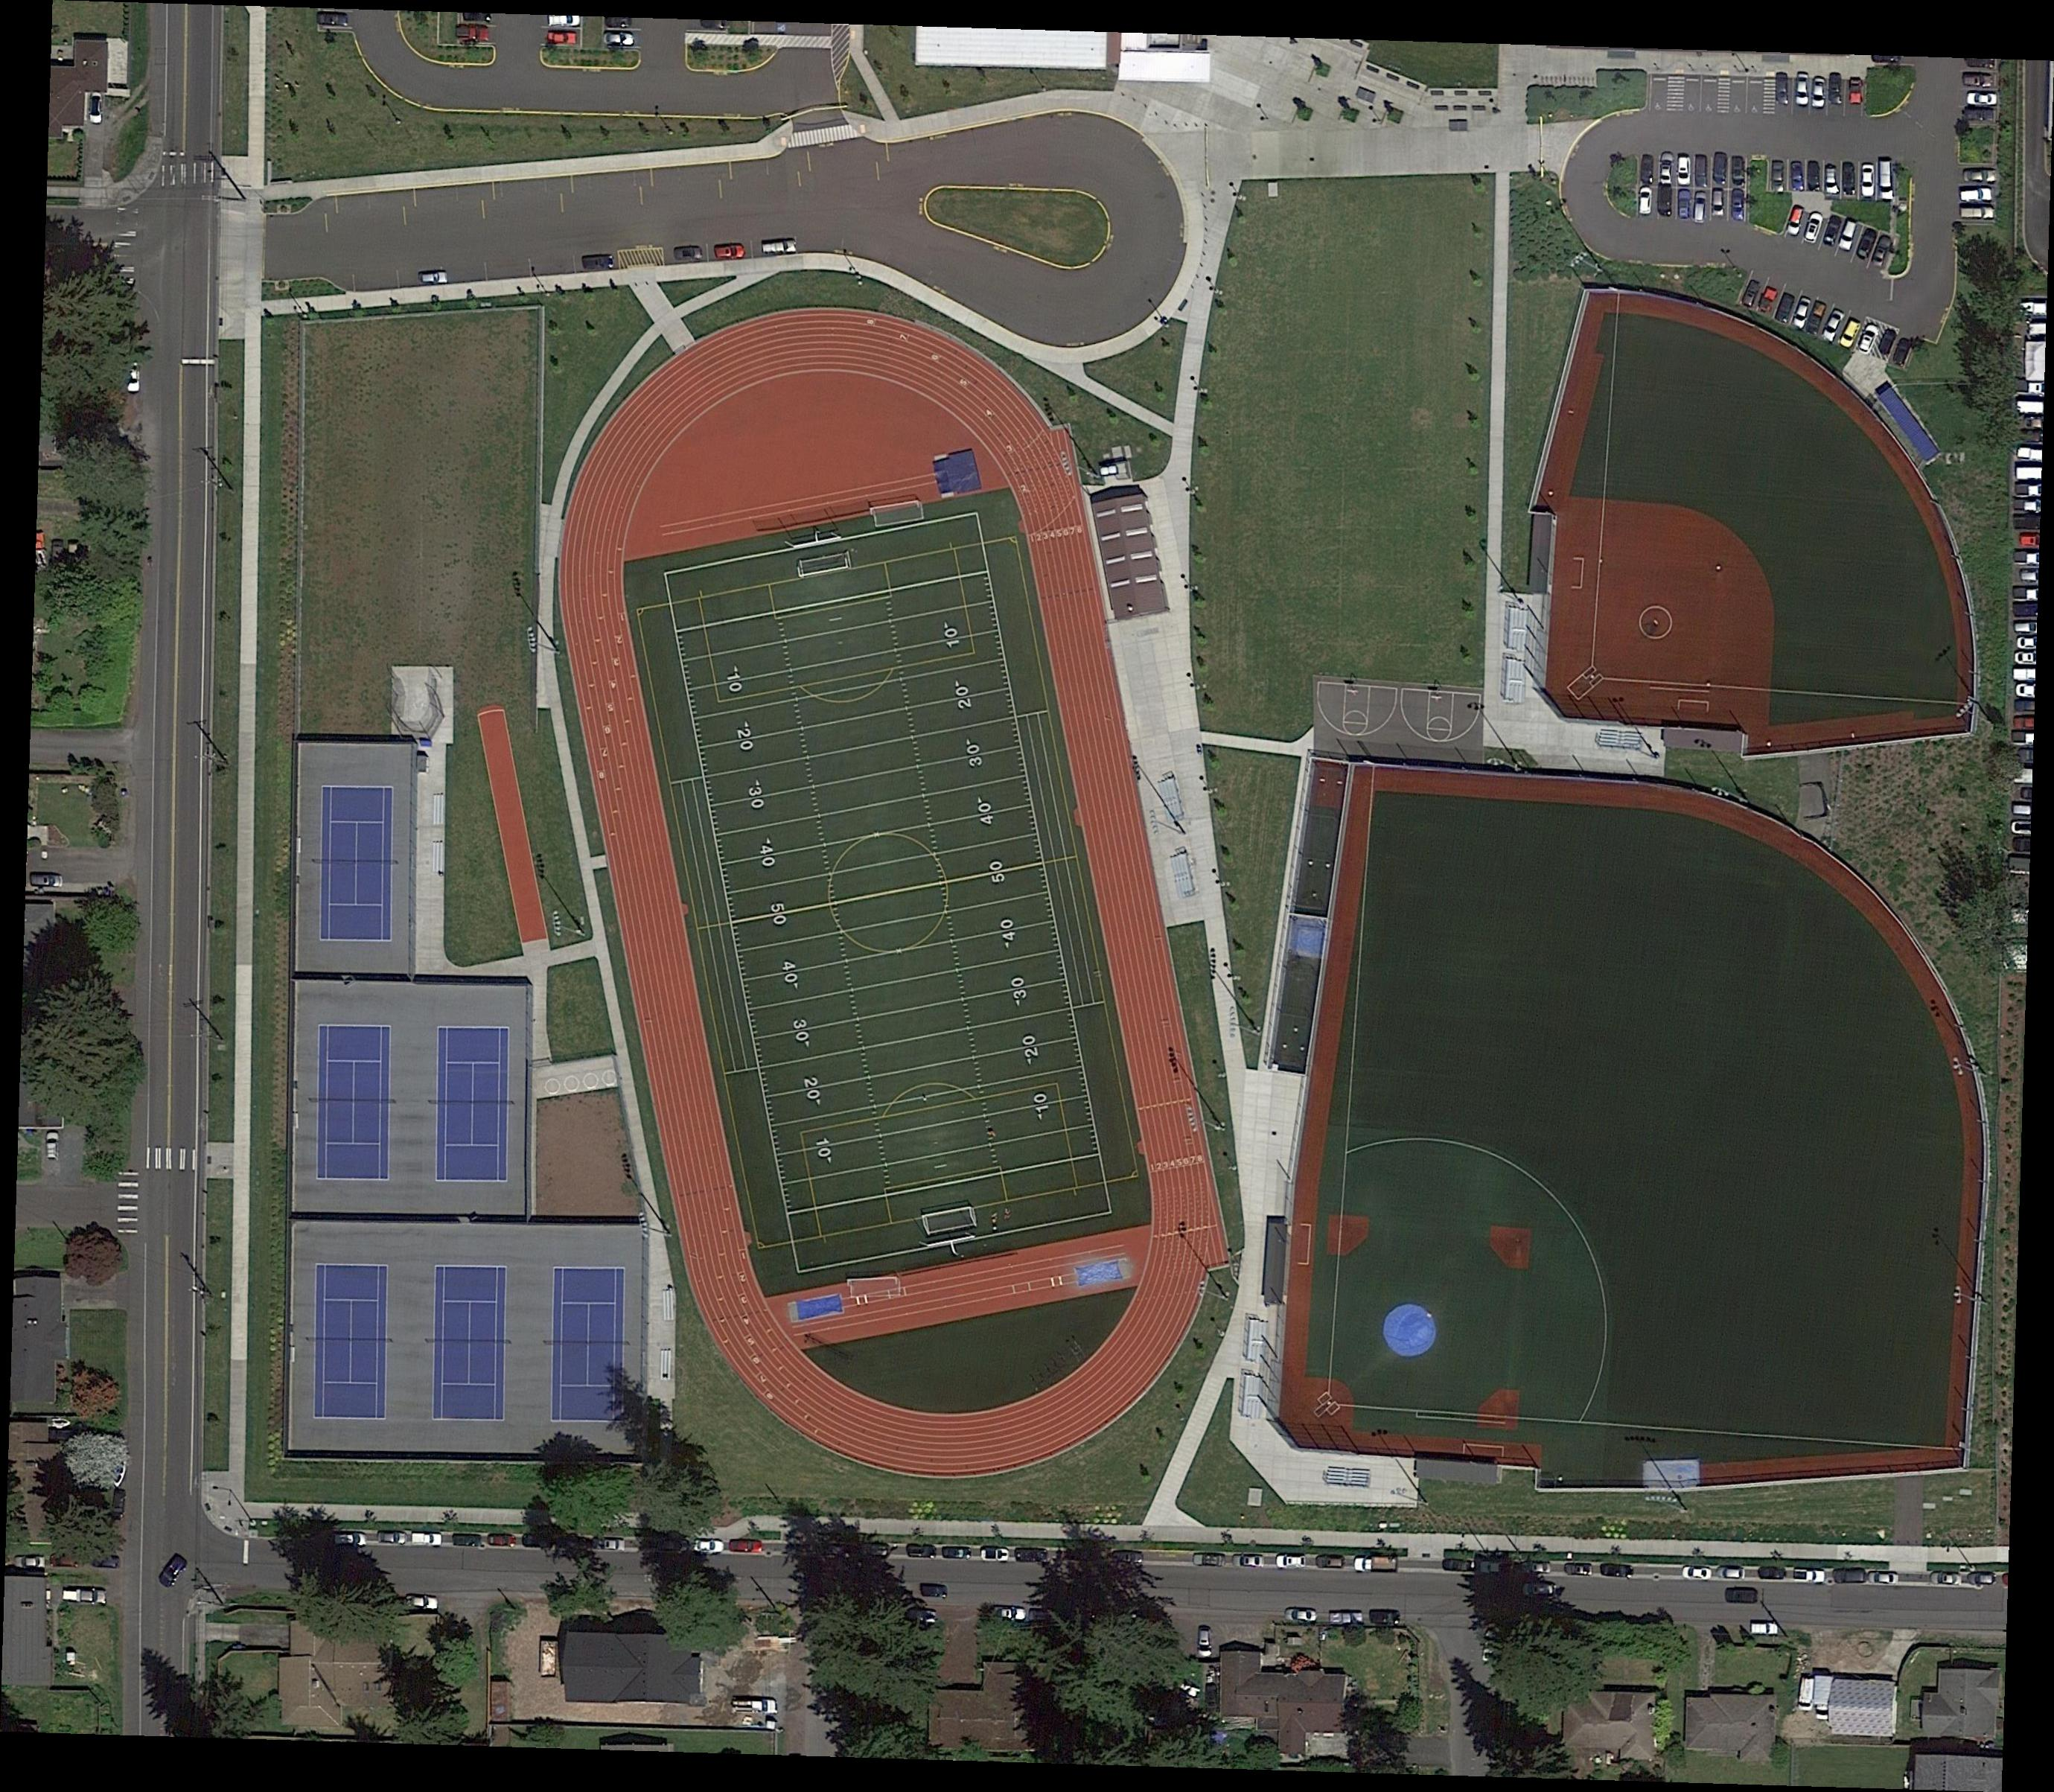17: (431, 1266, 508, 1422), (316, 1025, 391, 1181), (552, 1268, 625, 1423), (437, 1027, 510, 1182), (314, 1265, 388, 1418), (320, 788, 393, 941)
basketball-court: (1270, 755, 2000, 1499), (1532, 281, 1981, 741)
helicopter: (512, 264, 1266, 1532)
swimming-pool: (155, 1551, 190, 1591), (1818, 307, 1848, 344), (1811, 1677, 1834, 1722), (1801, 208, 1827, 246), (61, 1586, 108, 1607), (1855, 225, 1881, 262), (1354, 1554, 1399, 1575), (1869, 232, 1893, 269), (1857, 321, 1881, 358), (1790, 295, 1815, 332), (1837, 318, 1864, 351), (1836, 218, 1860, 253), (1804, 300, 1829, 335), (1796, 1677, 1816, 1713), (1876, 325, 1900, 356), (1775, 292, 1797, 323), (580, 253, 617, 272), (403, 1593, 440, 1612), (1785, 204, 1806, 238), (1822, 215, 1843, 248), (1757, 285, 1780, 314), (454, 24, 489, 44), (1724, 1586, 1759, 1605), (1015, 1546, 1050, 1565), (713, 243, 748, 262), (1928, 1570, 1963, 1589), (1878, 159, 1893, 201), (590, 1535, 627, 1553), (762, 239, 798, 257), (1191, 1551, 1228, 1568), (1741, 278, 1762, 307), (1892, 337, 1913, 367), (1658, 152, 1675, 187), (1109, 1549, 1144, 1567), (905, 1542, 940, 1560), (1792, 1568, 1827, 1586), (1600, 1563, 1635, 1581), (1196, 1624, 1214, 1659), (314, 10, 349, 28), (1284, 1607, 1319, 1624), (1231, 1553, 1266, 1570), (1860, 161, 1876, 199), (989, 1605, 1027, 1621), (1712, 152, 1729, 185), (1961, 72, 1995, 89), (89, 1553, 122, 1570), (1368, 1609, 1401, 1626), (1867, 1570, 1900, 1588), (1680, 1565, 1713, 1582), (1961, 168, 1998, 183), (1441, 1558, 1478, 1574), (1731, 187, 1747, 222), (1958, 187, 1993, 203), (728, 1539, 763, 1554), (692, 1539, 727, 1554), (1832, 1568, 1867, 1584), (980, 1546, 1011, 1563), (334, 1532, 369, 1547), (1715, 1565, 1747, 1582), (30, 873, 65, 889), (1692, 190, 1708, 224), (1811, 75, 1827, 108), (1841, 161, 1857, 194), (112, 1488, 128, 1521), (126, 362, 141, 395), (603, 31, 636, 47), (12, 1554, 45, 1570), (410, 1532, 444, 1547), (1960, 206, 1996, 220), (1677, 190, 1692, 222), (1806, 161, 1822, 192), (941, 1544, 973, 1560), (672, 246, 704, 262), (1967, 91, 1998, 107), (49, 1553, 80, 1568), (547, 30, 578, 45), (919, 1582, 950, 1598), (1563, 1561, 1595, 1577), (1315, 1554, 1347, 1570), (377, 1530, 409, 1546), (45, 1130, 61, 1161), (1796, 72, 1809, 107), (1829, 72, 1843, 107), (1329, 1612, 1364, 1626), (89, 91, 103, 126), (1638, 187, 1654, 217), (1848, 77, 1864, 107), (1640, 154, 1656, 183), (1658, 187, 1673, 217), (1757, 1565, 1787, 1581), (419, 271, 449, 286), (1277, 1554, 1306, 1570), (1694, 155, 1708, 189), (1776, 73, 1790, 107), (1677, 155, 1691, 187), (1771, 161, 1785, 192), (1792, 161, 1806, 192), (486, 1534, 517, 1547), (1967, 1572, 1998, 1586), (452, 1534, 482, 1547), (2014, 550, 2040, 566), (1712, 189, 1726, 217), (1825, 166, 1839, 194), (1733, 157, 1747, 185), (1752, 1623, 1780, 1637), (2017, 447, 2044, 461), (2016, 466, 2042, 480), (2012, 732, 2035, 748), (2014, 587, 2038, 601), (2012, 667, 2037, 681), (1871, 56, 1902, 66), (2014, 683, 2035, 699), (2016, 484, 2042, 496), (2014, 501, 2040, 513), (2014, 651, 2037, 665), (1967, 59, 1996, 70), (463, 14, 493, 24), (2012, 821, 2031, 837), (2016, 622, 2037, 636), (2016, 636, 2037, 650), (606, 17, 632, 28), (2016, 716, 2035, 730), (700, 21, 730, 30), (2014, 700, 2035, 713), (2021, 534, 2040, 547), (2014, 803, 2031, 816), (2019, 571, 2038, 582), (2021, 788, 2033, 800)
tennis-court: (634, 507, 1142, 1279)
